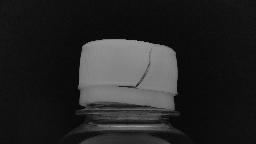Broken Cap: (70, 32, 184, 120)
